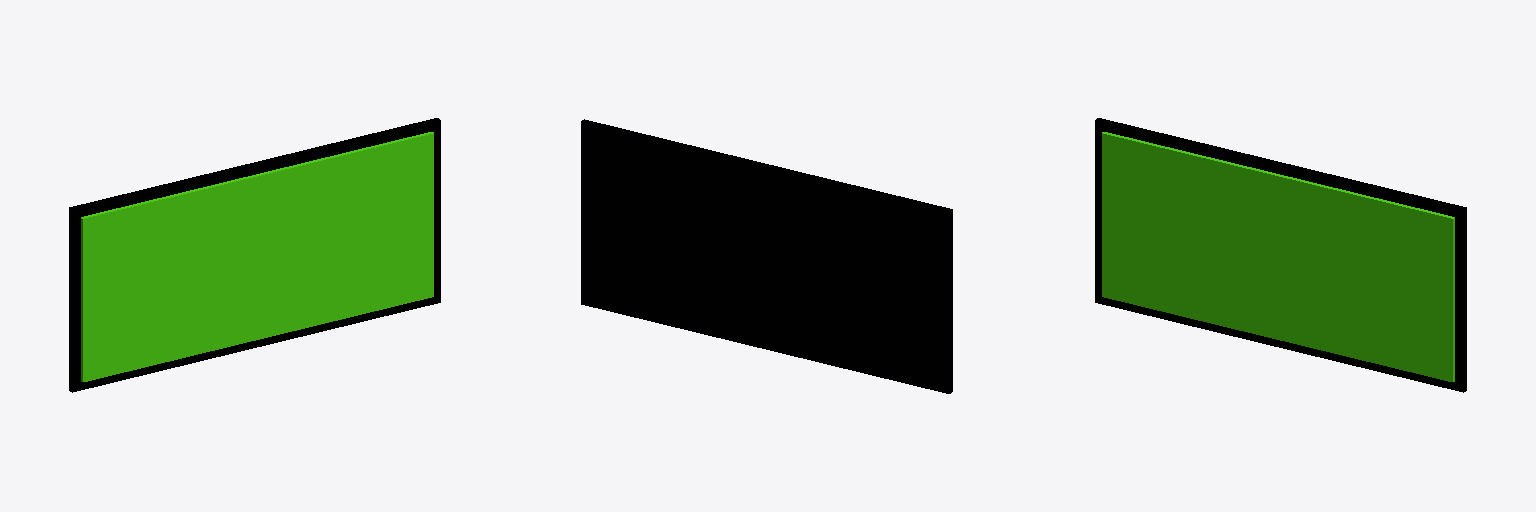
Rendered from cuadro.obj.
3 renders of one model, left to right at view 1: azimuth 30°, elevation 25°; view 2: azimuth 150°, elevation 25°; view 3: azimuth 330°, elevation 25°, orthographic.
Visible parts, largest first — view 1: Cube.001, Cube.024; view 2: Cube.024; view 3: Cube.001, Cube.024.
Boxes of the visible parts, x1=… form: Cube.001: x1=81, y1=132, x2=433, y2=381; Cube.024: x1=69, y1=118, x2=440, y2=392; Cube.024: x1=581, y1=119, x2=952, y2=393; Cube.001: x1=1102, y1=132, x2=1454, y2=381; Cube.024: x1=1095, y1=118, x2=1466, y2=392.
Size of the model in its own units: 4.38 by 2.08 by 0.107.